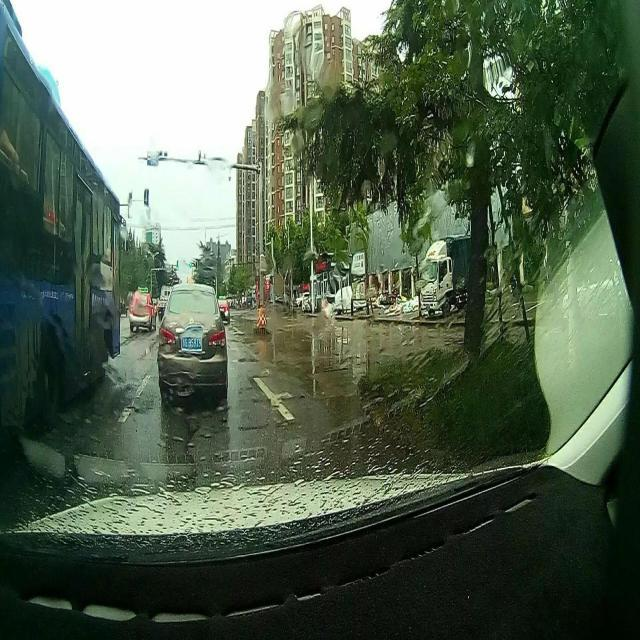car: (156, 286, 228, 400), (128, 288, 156, 336), (218, 300, 228, 322)
